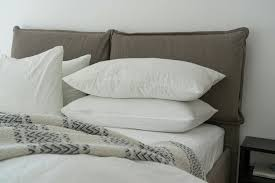bed-matress: (1, 106, 227, 183)
